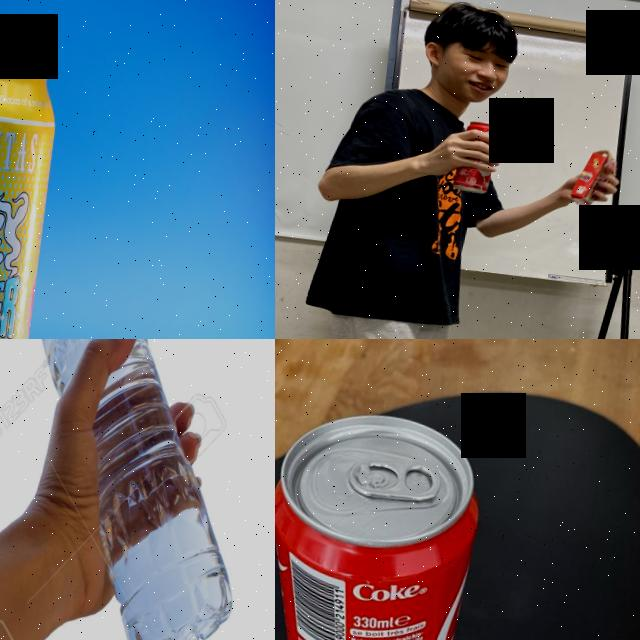bottle: (0, 339, 275, 640)
can: (275, 402, 490, 640), (0, 49, 62, 339), (451, 119, 503, 196)
